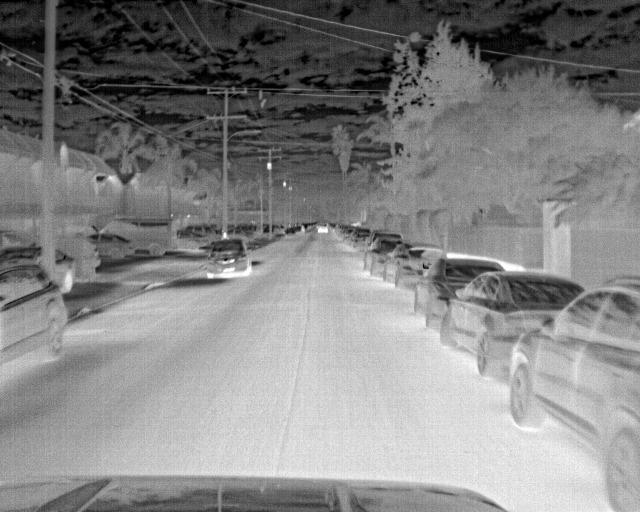car: (507, 281, 638, 508), (438, 271, 583, 386), (0, 259, 70, 365), (413, 253, 506, 328), (387, 245, 449, 290), (102, 217, 168, 256), (204, 235, 254, 281), (364, 237, 402, 274), (89, 235, 135, 259), (1, 243, 41, 270), (54, 245, 75, 295), (174, 229, 209, 252), (348, 227, 372, 246), (314, 222, 330, 235), (282, 227, 298, 239)
